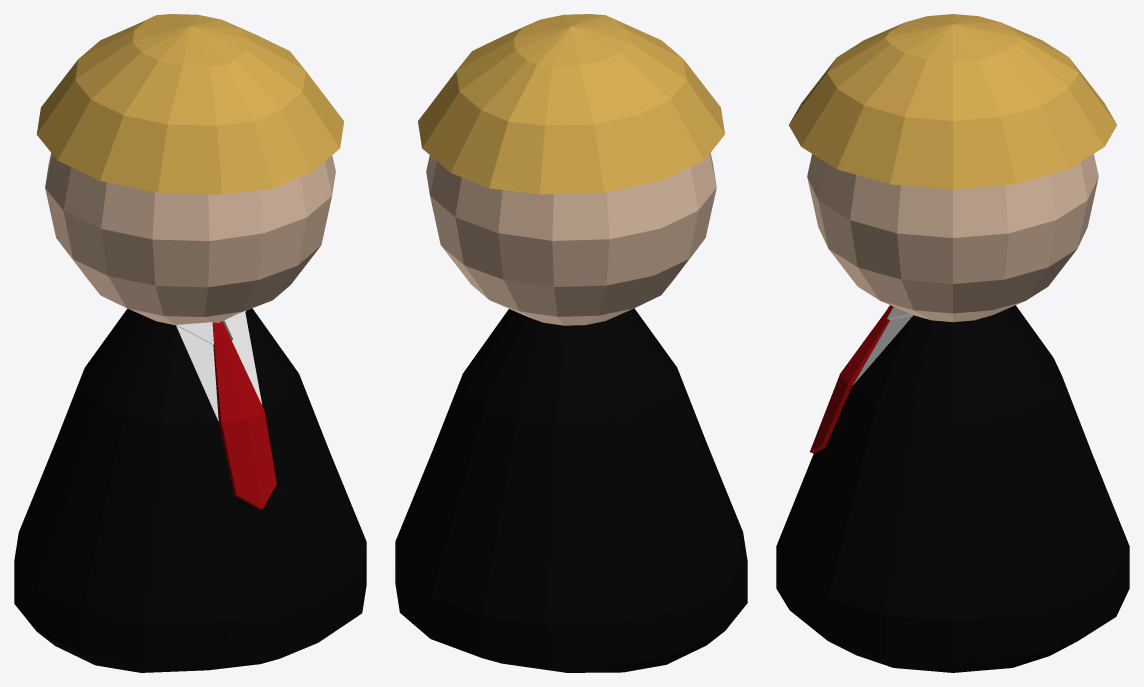
Rendered from bosspeep.fbx.
3 renders of one model, left to right at view 1: azimuth 30°, elevation 25°; view 2: azimuth 150°, elevation 25°; view 3: azimuth 270°, elevation 25°, orthographic.
Parts seen in each view (by area): view 1: Sphere; view 2: Sphere; view 3: Sphere.
Part boxes in pixels (x1=…): Sphere: x1=14, y1=14, x2=366, y2=672; Sphere: x1=395, y1=14, x2=747, y2=672; Sphere: x1=776, y1=14, x2=1129, y2=672.
Bounding box in the file's own units: 141 × 256 × 141.
